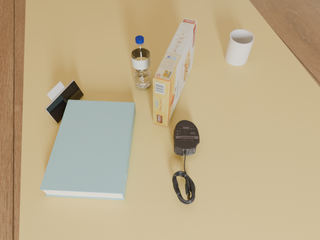book: (40, 100, 136, 200)
bottle: (131, 36, 151, 89)
box: (153, 18, 197, 127)
cup: (225, 29, 254, 66)
mouse: (174, 120, 200, 156)
phone: (45, 80, 84, 123)
